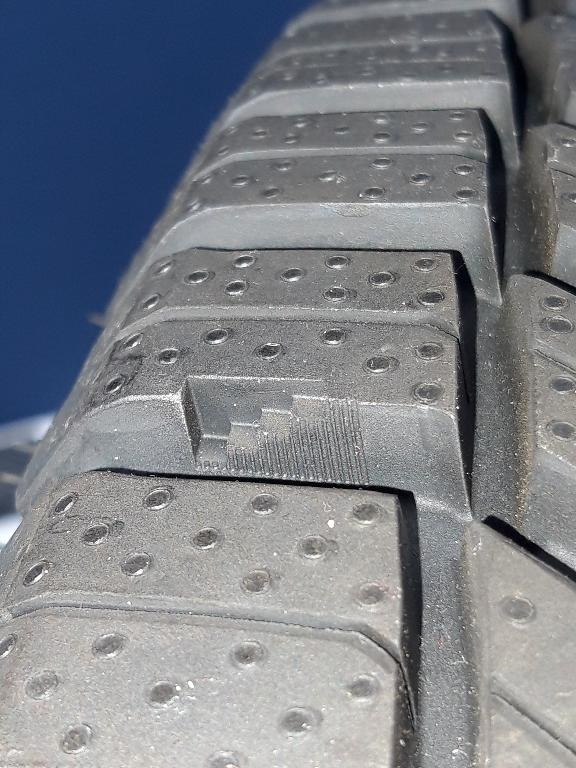temoin:100: (164, 364, 377, 497)
